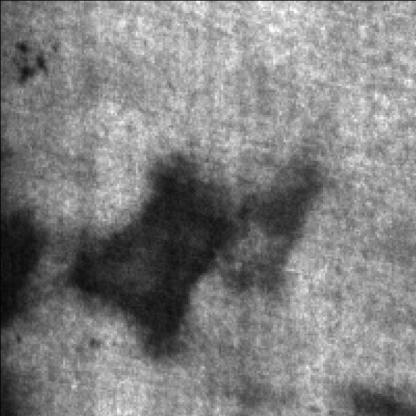patches: (65, 150, 233, 351), (223, 152, 328, 299), (2, 199, 56, 326)
